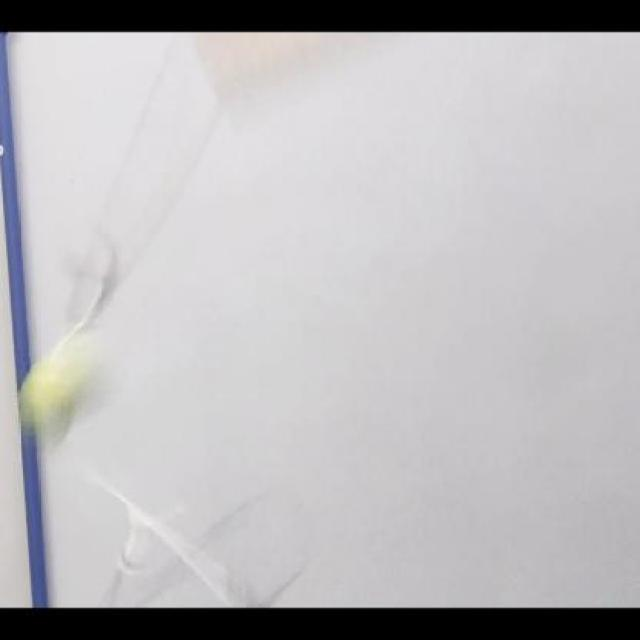baseball: (44, 335, 84, 442)
